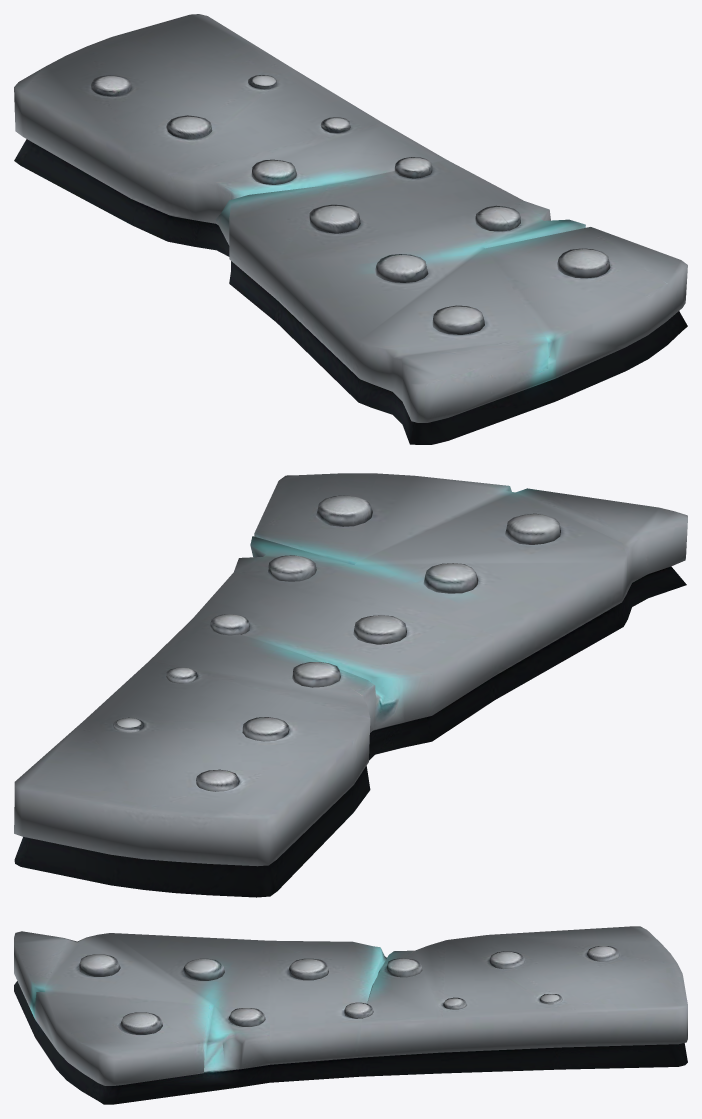
File: 01 junk.glb
The picture shows the model from 3 angles, top to bottom: view 1: azimuth 30°, elevation 25°; view 2: azimuth 150°, elevation 25°; view 3: azimuth 270°, elevation 25°; orthographic projection. The views are drawn at different scales.
Visible parts, largest first — view 1: tripo_node_3e64f6f1-83fa-4cdd-a943-4f6f687869eb; view 2: tripo_node_3e64f6f1-83fa-4cdd-a943-4f6f687869eb; view 3: tripo_node_3e64f6f1-83fa-4cdd-a943-4f6f687869eb.
Part boxes in pixels (x1,y1,x2,y2): tripo_node_3e64f6f1-83fa-4cdd-a943-4f6f687869eb: (14, 14, 687, 444); tripo_node_3e64f6f1-83fa-4cdd-a943-4f6f687869eb: (14, 473, 687, 897); tripo_node_3e64f6f1-83fa-4cdd-a943-4f6f687869eb: (14, 926, 687, 1104).
Size of the model in its own units: 0.0801 by 0.0189 by 0.1818.
Materials: 1 (1 with a texture image).
